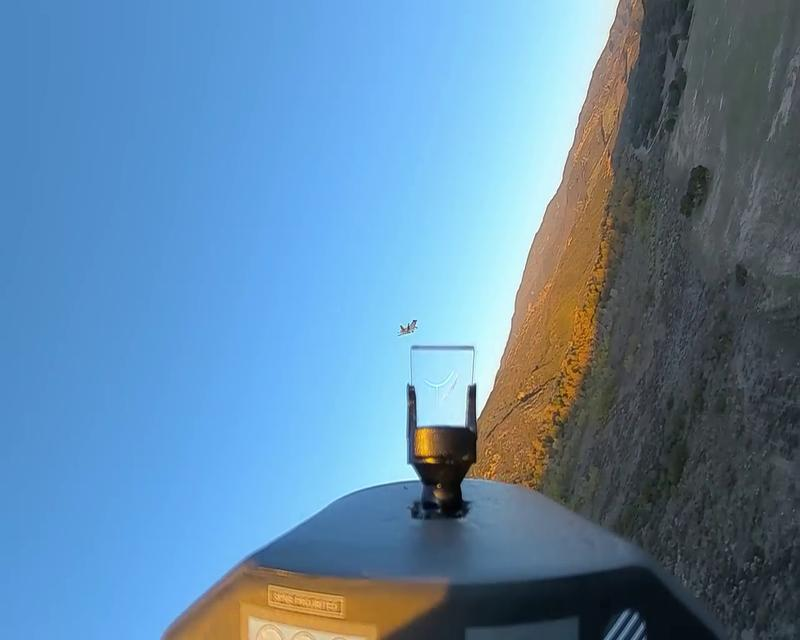UAV: (395, 319, 419, 338)
